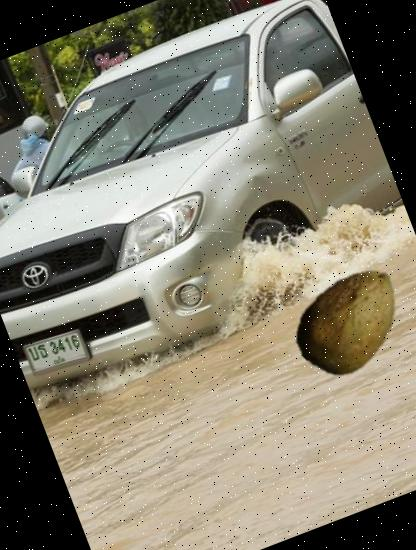Papaya: (273, 244, 416, 398)
